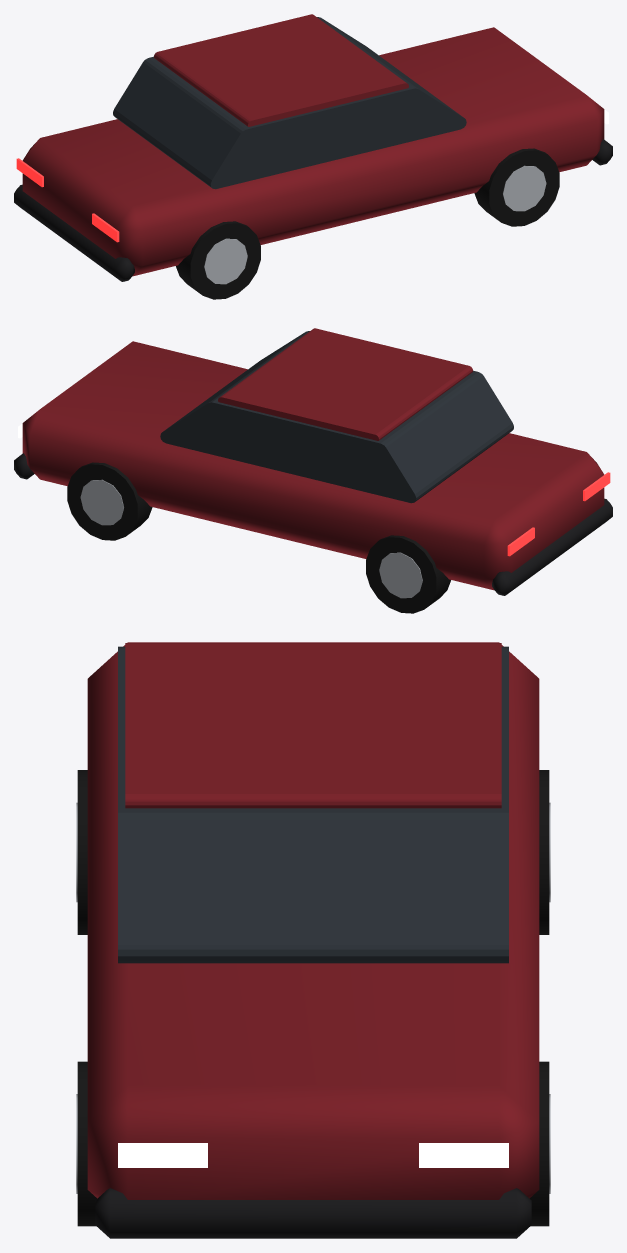
File: car_sedan.glb
The picture shows the model from 3 angles, top to bottom: view 1: azimuth 30°, elevation 25°; view 2: azimuth 150°, elevation 25°; view 3: azimuth 270°, elevation 25°; orthographic projection. The views are drawn at different scales.
Visible parts, largest first — view 1: Mesh_Body, Mesh_Cabin, Mesh_Roof, Mesh_TyreBR, Mesh_TyreFR, Mesh_BumperR, Mesh_RimBR, Mesh_RimFR; view 2: Mesh_Body, Mesh_Cabin, Mesh_Roof, Mesh_TyreBL, Mesh_TyreFL, Mesh_BumperR, Mesh_RimBL, Mesh_RimFL; view 3: Mesh_Body, Mesh_Cabin, Mesh_Roof, Mesh_Bumper, Mesh_HeadL, Mesh_HeadR, Mesh_TyreFL, Mesh_TyreFR, Mesh_TyreBL, Mesh_TyreBR.
Part boxes in pixels (x1=…): Mesh_Body: x1=22, y1=27, x2=604, y2=276; Mesh_Cabin: x1=113, y1=17, x2=466, y2=189; Mesh_Roof: x1=154, y1=14, x2=408, y2=126; Mesh_TyreBR: x1=176, y1=221, x2=260, y2=299; Mesh_TyreFR: x1=474, y1=148, x2=559, y2=226; Mesh_BumperR: x1=14, y1=184, x2=134, y2=281; Mesh_RimBR: x1=204, y1=238, x2=247, y2=284; Mesh_RimFR: x1=503, y1=165, x2=546, y2=211; Mesh_Body: x1=22, y1=341, x2=604, y2=590; Mesh_Cabin: x1=160, y1=331, x2=513, y2=503; Mesh_Roof: x1=218, y1=328, x2=472, y2=440; Mesh_TyreBL: x1=366, y1=535, x2=450, y2=613; Mesh_TyreFL: x1=67, y1=462, x2=152, y2=540; Mesh_BumperR: x1=492, y1=498, x2=612, y2=595; Mesh_RimBL: x1=379, y1=552, x2=422, y2=598; Mesh_RimFL: x1=80, y1=479, x2=123, y2=525; Mesh_Body: x1=87, y1=642, x2=539, y2=1199; Mesh_Cabin: x1=118, y1=646, x2=508, y2=963; Mesh_Roof: x1=125, y1=643, x2=501, y2=808; Mesh_Bumper: x1=95, y1=1188, x2=531, y2=1238; Mesh_HeadL: x1=419, y1=1143, x2=508, y2=1167; Mesh_HeadR: x1=118, y1=1143, x2=207, y2=1167; Mesh_TyreFL: x1=529, y1=1061, x2=549, y2=1226; Mesh_TyreFR: x1=77, y1=1061, x2=97, y2=1226; Mesh_TyreBL: x1=539, y1=770, x2=549, y2=934; Mesh_TyreBR: x1=77, y1=770, x2=87, y2=934.
Bounding box in the file's own units: 4.58 × 1.41 × 1.89.
